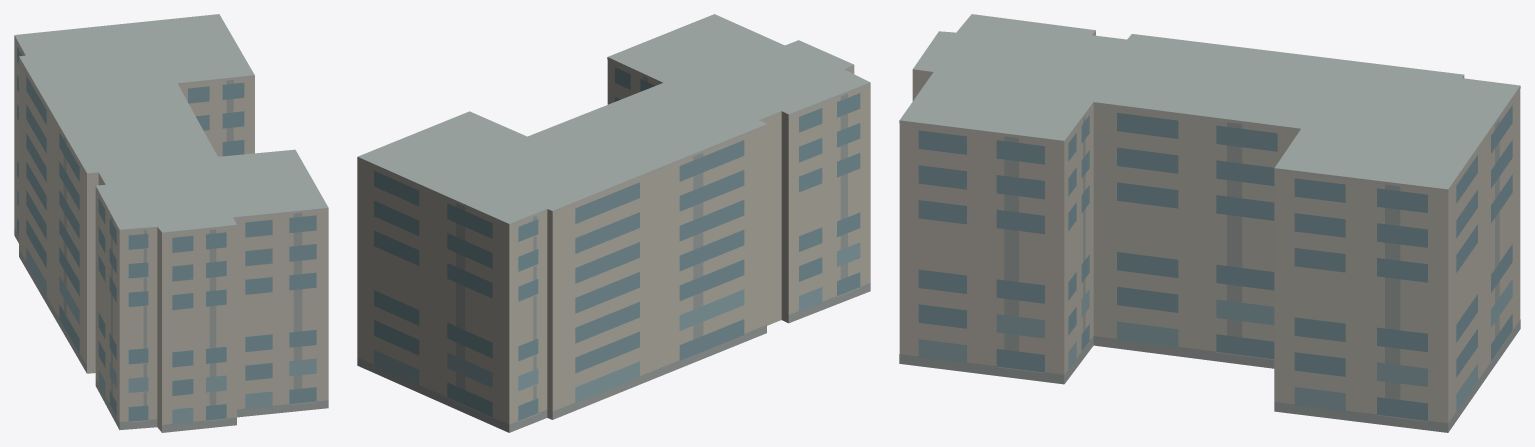
Rendered from survey-upis-32880918.glb.
3 renders of one model, left to right at view 1: azimuth 30°, elevation 25°; view 2: azimuth 150°, elevation 25°; view 3: azimuth 270°, elevation 25°, orthographic. The views are drawn at different scales.
Visible parts, largest first — view 1: survey-upis-32880918.tmp; view 2: survey-upis-32880918.tmp; view 3: survey-upis-32880918.tmp.
Boxes of the visible parts, x1,y1,x2,y2 form: survey-upis-32880918.tmp: (14, 14, 328, 432); survey-upis-32880918.tmp: (357, 14, 870, 432); survey-upis-32880918.tmp: (899, 14, 1520, 432).
Size of the model in its own units: 30.91 by 20 by 46.24.
